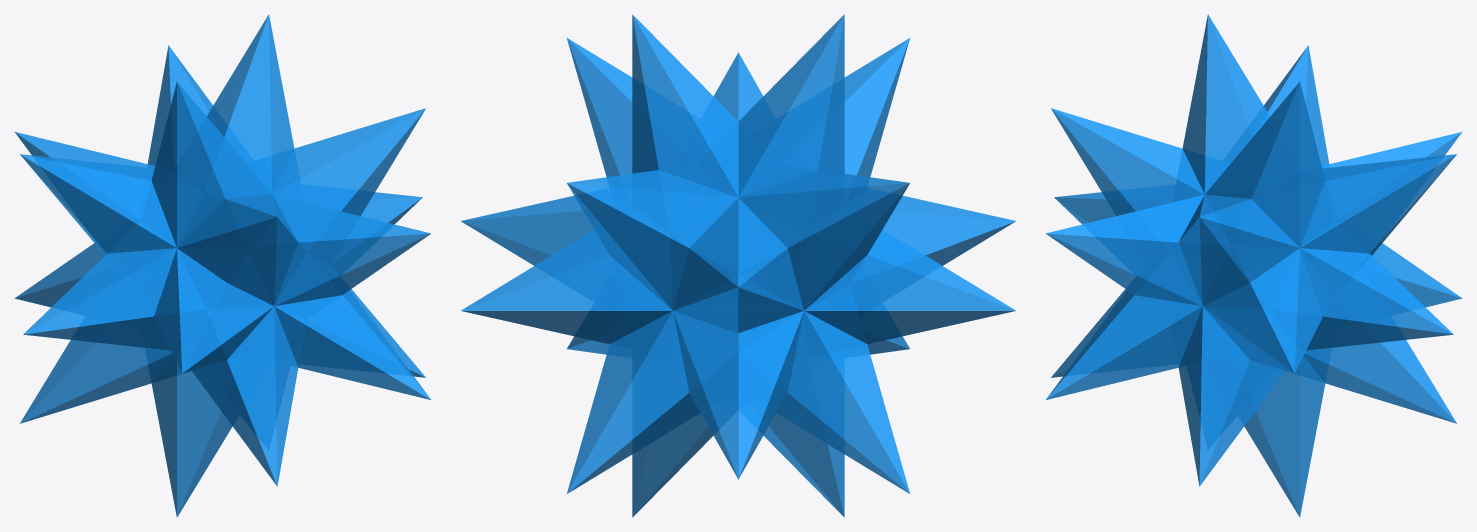
Rendered from fractalgreatstellapentakisdodecahedron0.glb.
3 views of the same model, side by side, from view 1: azimuth 30°, elevation 25°; view 2: azimuth 150°, elevation 25°; view 3: azimuth 270°, elevation 25° (orthographic). The views are drawn at different scales.
Size of the model in its own units: 11.78 by 11.14 by 9.65.
